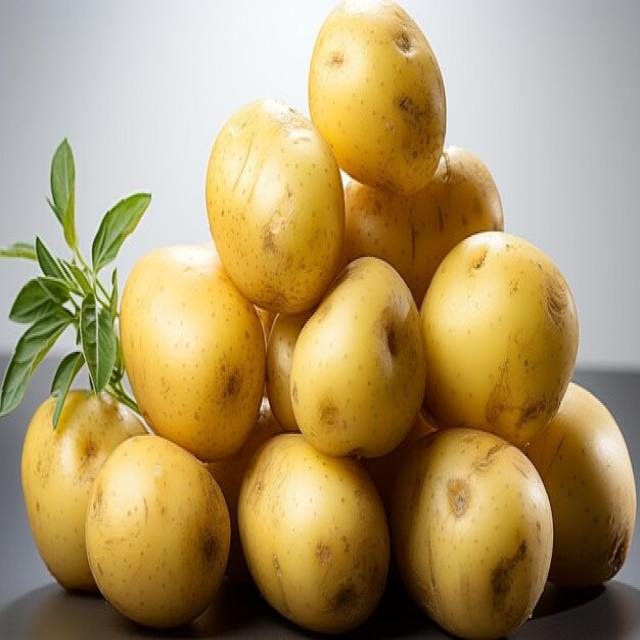Potato: (409, 194, 581, 476), (230, 406, 403, 640), (27, 347, 174, 616), (128, 208, 261, 462), (194, 88, 350, 300), (302, 2, 460, 208)
